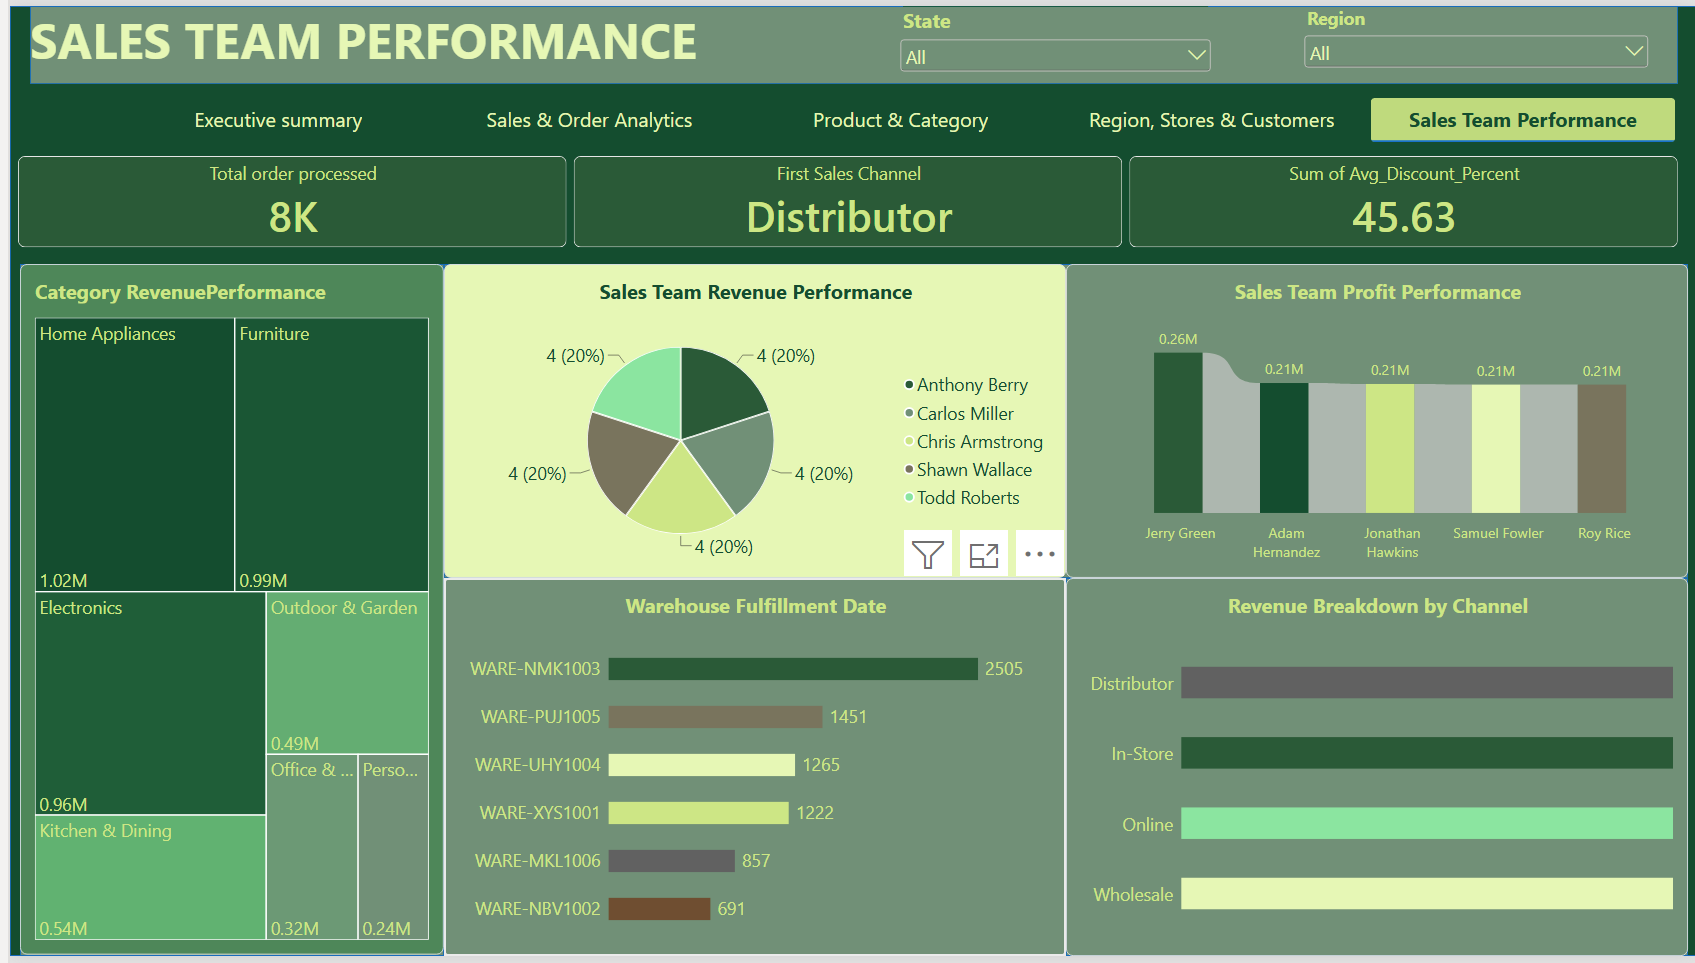

What the dashboard file says about the page in this screenshot:
{"tool":"powerbi","page":{"name":"Sales Team Performance","canvas":[1920,1080],"ordinal":4},"visuals":[{"type":"shape","box":[0,0,1920,1080.6],"z":0},{"type":"shape","box":[22.7,0,1874.5,88.7],"z":1000},{"type":"shape","box":[11.4,293.5,482.3,787.1],"z":2000},{"type":"shape","box":[493.6,293.5,1415,357.2],"z":3000},{"type":"shape","box":[493.6,650.6,707.5,430],"z":4000},{"type":"shape","box":[1201.1,650.6,707.5,430],"z":5000},{"type":"textbox","title":"SALES TEAM PERFORMANCE","box":[22.7,20.5,784.8,68.2],"z":6000},{"type":"pieChart","title":"Sales Team Revenue Performance","fields":{"Category":["oyinkansola sales_team_usa.Sales Team"],"Y":["CountNonNull(Query1.Total_Revenue)"]},"box":[493.6,293.5,707.5,357.2],"z":7000},{"type":"slicer","fields":{"Values":["oyinkansola region_usa.State"]},"box":[1008.7,0,363.1,87.8],"z":8000},{"type":"slicer","fields":{"Values":["Query5.Region"]},"box":[1466.7,0,401.1,87.8],"z":9000},{"type":"treemap","title":"Category RevenuePerformance","fields":{"Group":["oyinkansola product_usa.Category"],"Values":["oyinkansola customer_usa.Total Revenue"]},"box":[11.9,294.3,481.8,785.6],"z":10000},{"type":"pageNavigator","box":[131.9,104.6,1765.3,50],"z":11000},{"type":"cardVisual","fields":{"Data":["Query1.Total order processed","Min(Query1.Sales Channel)","Sum(Query6.Avg_Discount_Percent)"]},"box":[9.1,170.6,1888.2,104.6],"z":12000},{"type":"barChart","title":" Warehouse Fulfillment Date","fields":{"Category":["oyinkansola sales_order_usa.WarehouseCode"],"Y":["CountNonNull(oyinkansola sales_order_usa.deliveryDate)"]},"box":[493.6,650.6,707.5,430],"z":13000},{"type":"clusteredBarChart","title":"Revenue Breakdown by Channel","fields":{"Category":["oyinkansola sales_order_usa.Sales Channel"],"Y":["CountNonNull(Query1.Total_Revenue)"]},"box":[1201.1,650.6,707.5,430],"z":14000},{"type":"columnChart","title":"Sales Team Profit Performance","fields":{"Category":["oyinkansola sales_team_usa.Sales Team"],"Y":["Query1.total profits"]},"box":[1201.1,293.5,707.5,357.2],"z":15000}]}

Visuals, with their boxes in screenshot pixels (x1, y1, x2, y2), scaled from the page's 1920x1080 canvas onto the 1695x963 screenshot:
shape: left=0, top=0, right=1694, bottom=962
shape: left=20, top=0, right=1675, bottom=79
shape: left=10, top=262, right=436, bottom=962
shape: left=436, top=262, right=1685, bottom=580
shape: left=436, top=580, right=1060, bottom=962
shape: left=1060, top=580, right=1685, bottom=962
"SALES TEAM PERFORMANCE" textbox: left=20, top=18, right=713, bottom=79
"Sales Team Revenue Performance" pieChart: left=436, top=262, right=1060, bottom=580
slicer - oyinkansola region_usa.State: left=890, top=0, right=1211, bottom=78
slicer - Query5.Region: left=1295, top=0, right=1649, bottom=78
"Category RevenuePerformance" treemap: left=11, top=262, right=436, bottom=962
pageNavigator: left=116, top=93, right=1675, bottom=138
cardVisual - Query1.Total order processed x Min(Query1.Sales Channel): left=8, top=152, right=1675, bottom=245
" Warehouse Fulfillment Date" barChart: left=436, top=580, right=1060, bottom=962
"Revenue Breakdown by Channel" clusteredBarChart: left=1060, top=580, right=1685, bottom=962
"Sales Team Profit Performance" columnChart: left=1060, top=262, right=1685, bottom=580
